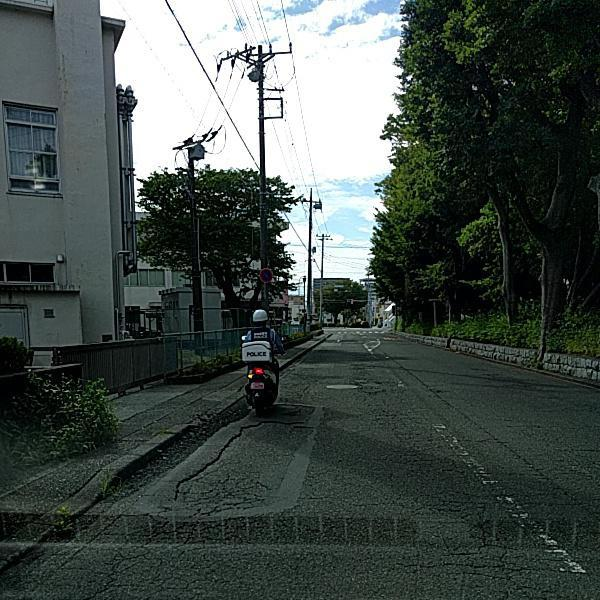D20: (90, 403, 565, 599)
